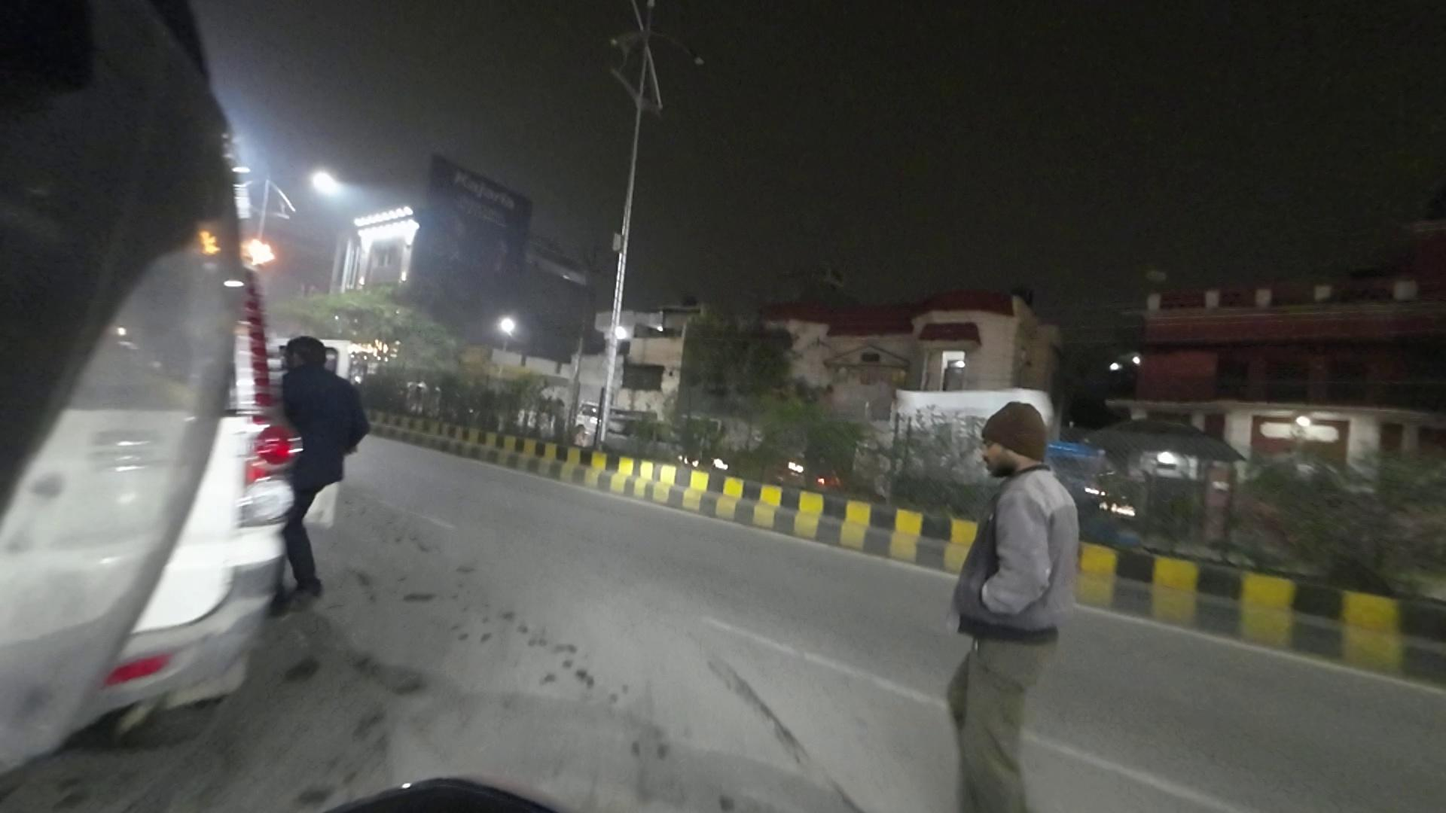streetlight: (668, 38, 709, 70)
